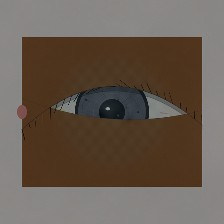pinguecula_lesion: (35, 96, 76, 129)
